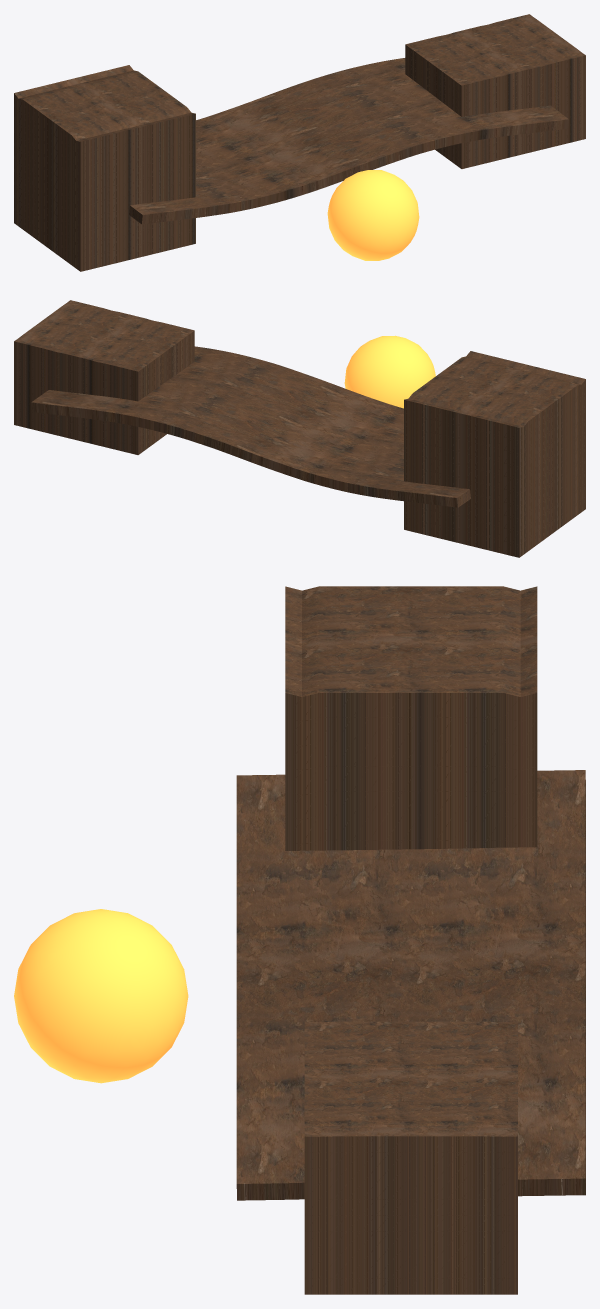
Rendered from rock-cycle.glb.
3 renders of one model, top to bottom at view 1: azimuth 30°, elevation 25°; view 2: azimuth 150°, elevation 25°; view 3: azimuth 270°, elevation 25°, orthographic. The views are drawn at different scales.
Parts seen in each view (by area): view 1: Rock_Granite, Rock_Sandstone, Rock_Schist, Rock_Magma; view 2: Rock_Granite, Rock_Sandstone, Rock_Schist, Rock_Magma; view 3: Rock_Sandstone, Rock_Granite, Rock_Schist, Rock_Magma.
Part boxes in pixels (x1,y1,x2,y2): Rock_Granite: [14, 65, 195, 271]; Rock_Sandstone: [129, 58, 568, 224]; Rock_Schist: [405, 14, 585, 168]; Rock_Magma: [327, 170, 419, 260]; Rock_Granite: [404, 351, 585, 557]; Rock_Sandstone: [31, 346, 470, 507]; Rock_Schist: [14, 300, 194, 454]; Rock_Magma: [344, 335, 435, 408]; Rock_Sandstone: [236, 770, 585, 1200]; Rock_Granite: [285, 586, 537, 850]; Rock_Schist: [304, 1021, 517, 1294]; Rock_Magma: [14, 909, 188, 1083].
Bounding box in the file's own units: 5.75 × 1.5 × 2.95.
4 materials, 3 textured.
